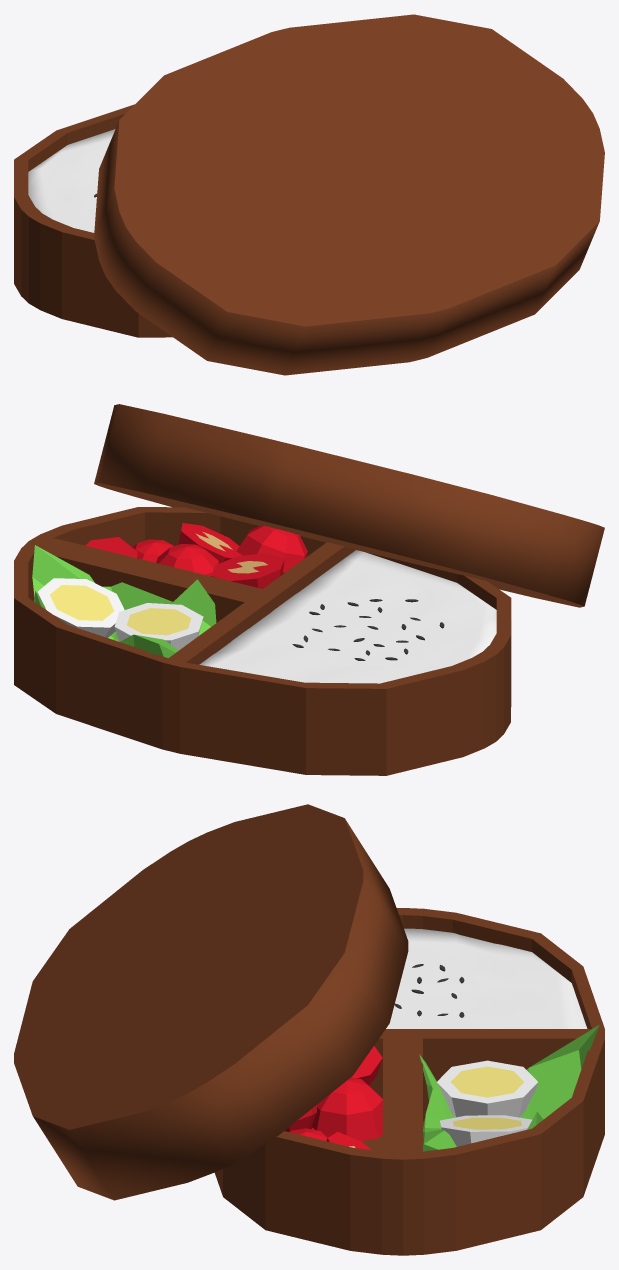
The model's file is Bento.fbx.
The picture shows the model from 3 angles, top to bottom: view 1: azimuth 30°, elevation 25°; view 2: azimuth 150°, elevation 25°; view 3: azimuth 270°, elevation 25°; orthographic projection. The views are drawn at different scales.
Parts seen in each view (by area): view 1: Cube.001, Cube, Cube.002; view 2: Cube, Cube.001, Cube.002, Plane.001, Sphere.009, Sphere.008, Sphere, Sphere.001, Sphere.002, Sphere.003, Plane, Sphere.004 (+1 smaller); view 3: Cube.001, Cube, Cube.002, Plane.001, Sphere.008, Sphere.003, Sphere.009, Sphere.
Part boxes in pixels (x1,y1,x2,y2): Cube.001: (94, 14, 604, 375); Cube: (14, 104, 172, 337); Cube.002: (28, 129, 115, 232); Cube: (14, 507, 511, 775); Cube.001: (94, 404, 604, 607); Cube.002: (199, 550, 496, 683); Plane.001: (32, 545, 216, 658); Sphere.009: (37, 578, 124, 637); Sphere.008: (114, 603, 203, 650); Sphere: (211, 553, 284, 588); Sphere.001: (236, 525, 307, 572); Sphere.002: (178, 523, 242, 563); Sphere.003: (156, 544, 219, 576); Plane: (292, 599, 444, 660); Sphere.004: (85, 537, 138, 558); Cube.001: (14, 804, 408, 1200); Cube: (214, 908, 604, 1255); Cube.002: (386, 928, 587, 1028); Plane.001: (419, 1025, 599, 1151); Sphere.008: (436, 1060, 538, 1117); Sphere.003: (311, 1077, 382, 1136); Sphere.009: (440, 1115, 531, 1146); Sphere: (351, 1046, 382, 1085).
Size of the model in its own units: 562 by 265 by 558.
